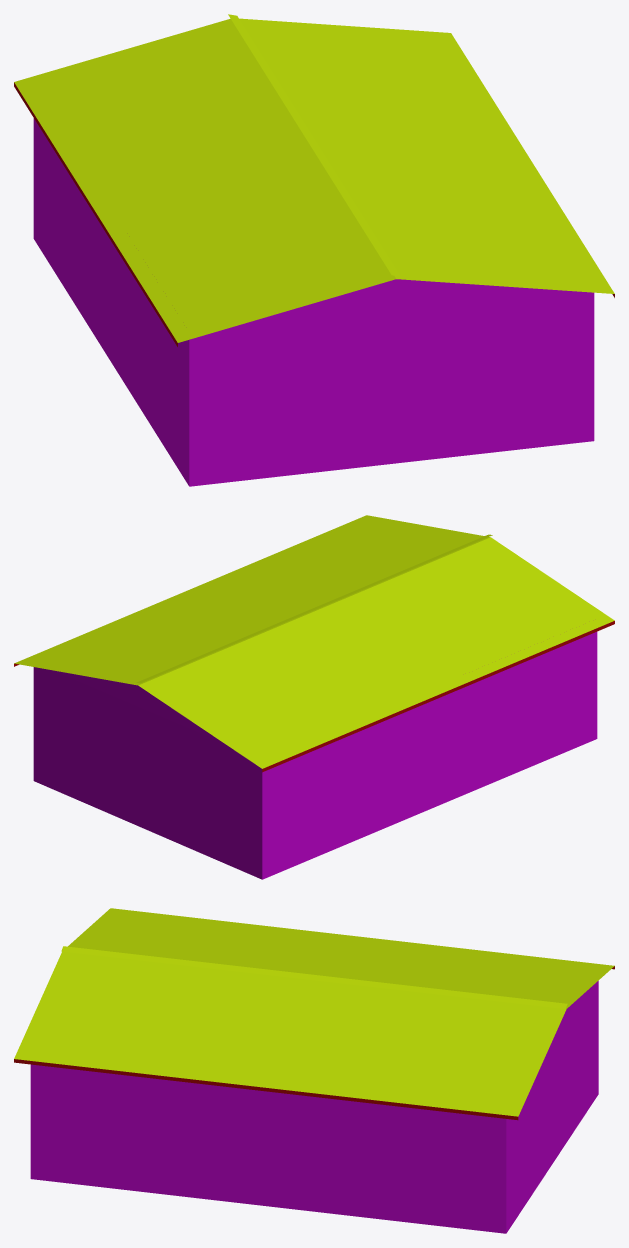
File: rmc_140.glb
3 renders of one model, top to bottom at view 1: azimuth 30°, elevation 25°; view 2: azimuth 150°, elevation 25°; view 3: azimuth 270°, elevation 25°, orthographic. The views are drawn at different scales.
Visible parts, largest first — view 1: rmc_140; view 2: rmc_140; view 3: rmc_140.
Boxes of the visible parts, box(x1,y1,x2,y2) form: rmc_140: box(14, 14, 614, 486); rmc_140: box(14, 515, 614, 879); rmc_140: box(14, 908, 614, 1233).
Size of the model in its own units: 14.94 by 5.35 by 18.2.
